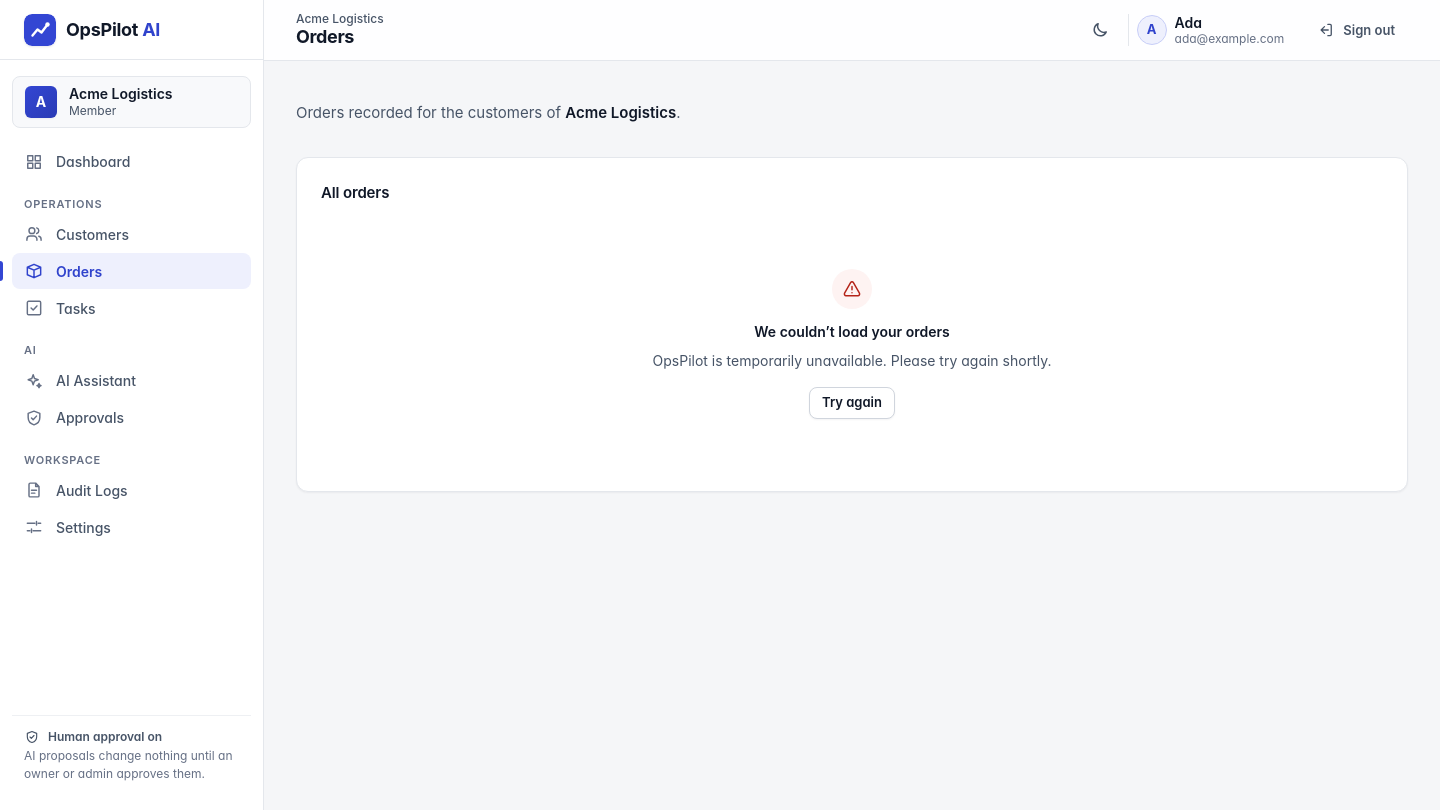
it: Orders list › explains a failed load and retries
Expected: the heading "Orders" is shown, x1=296 y1=26 x2=354 y2=47
Expected: the message shows "We couldn’t load your orders", x1=754 y1=322 x2=950 y2=340
What coordinates should you click on to do the following:
click the button "Try again"
I would click on:
 (852, 402)
Its box is x1=809 y1=386 x2=895 y2=418.
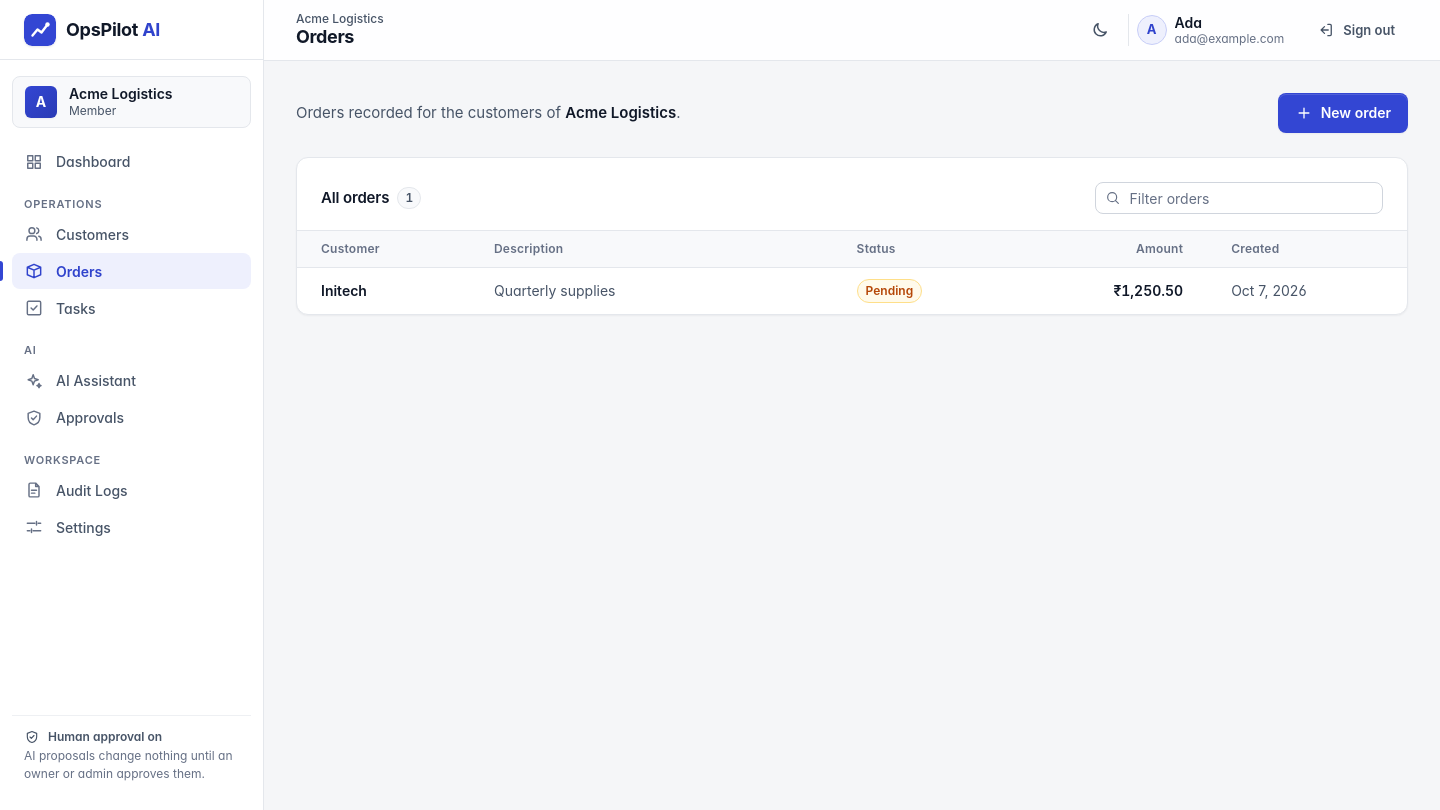
Now the text "Quarterly supplies" is shown, box x1=470 y1=267 x2=833 y2=314
